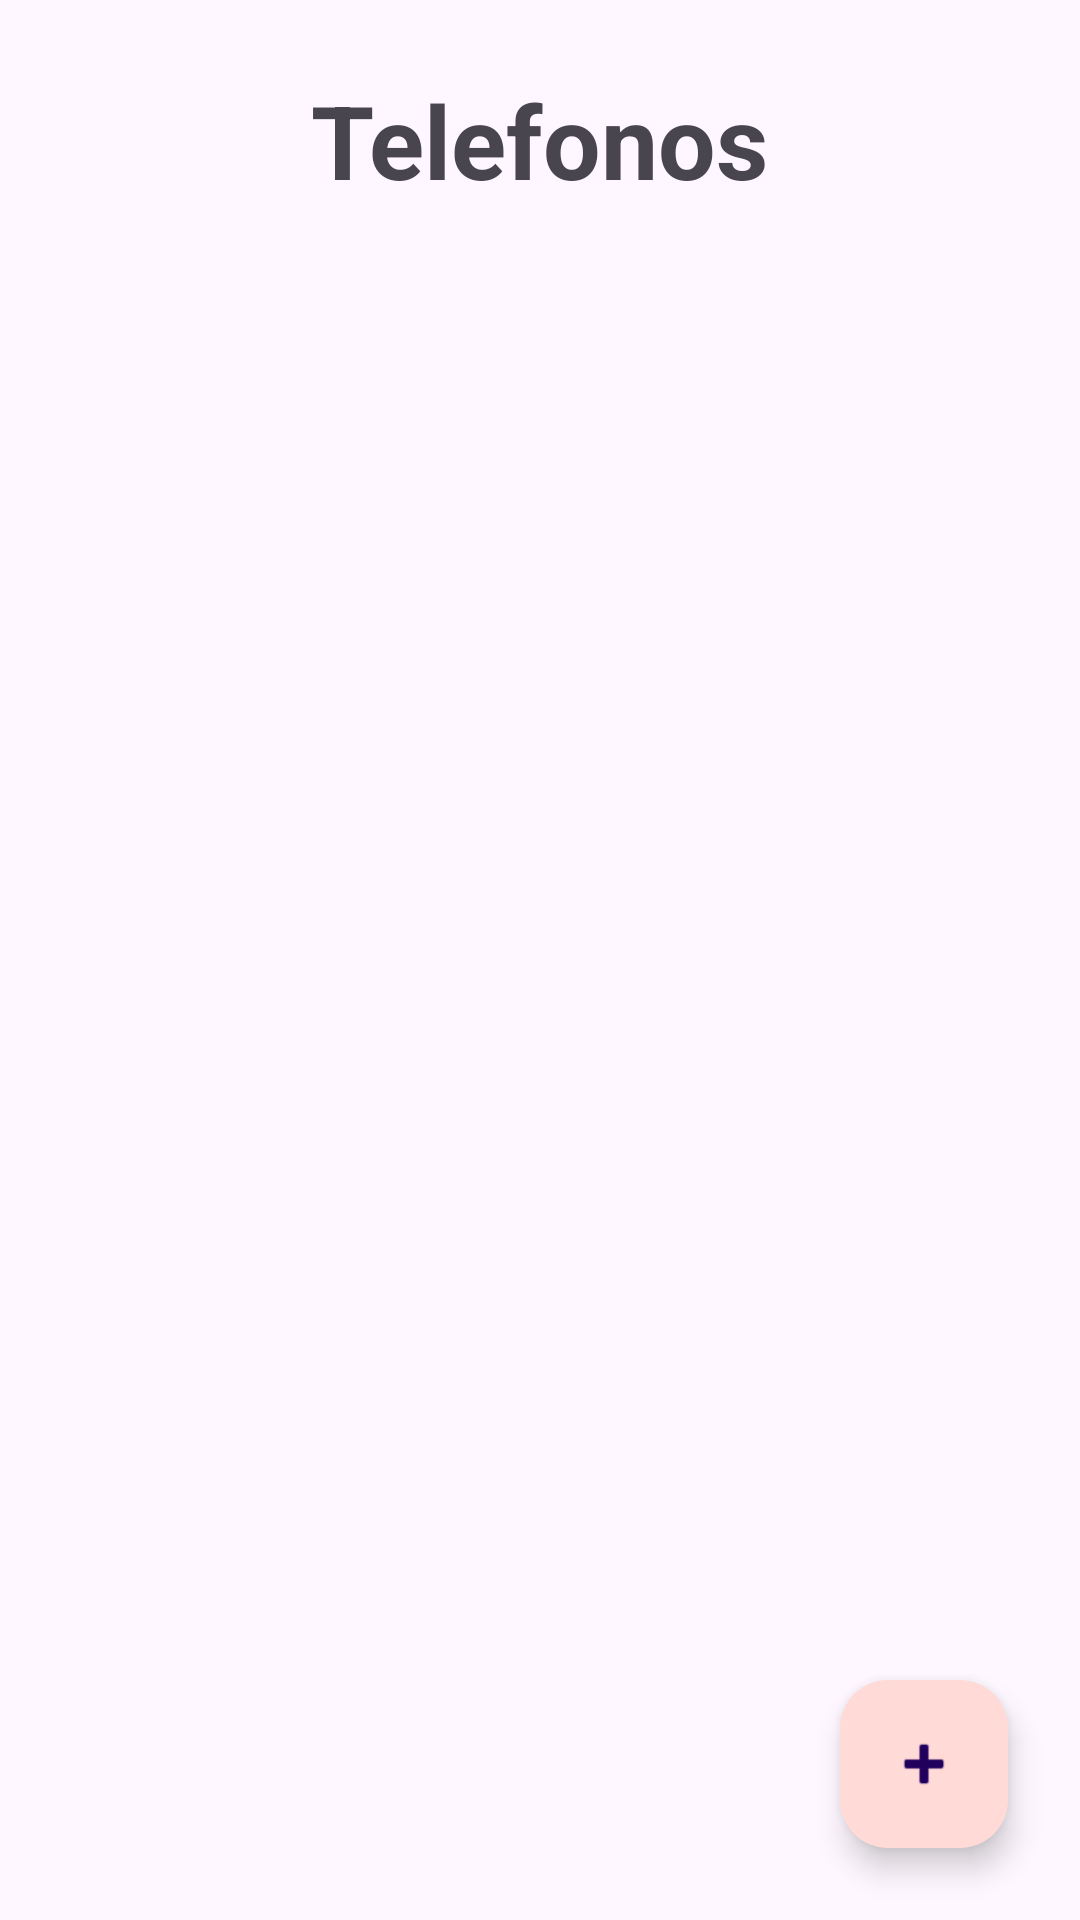

Named icons in this screenshot (1080 x 1920) and their centers, [x,y]:
Boton que nageva hacia agregar un telefono: [924,1764]
